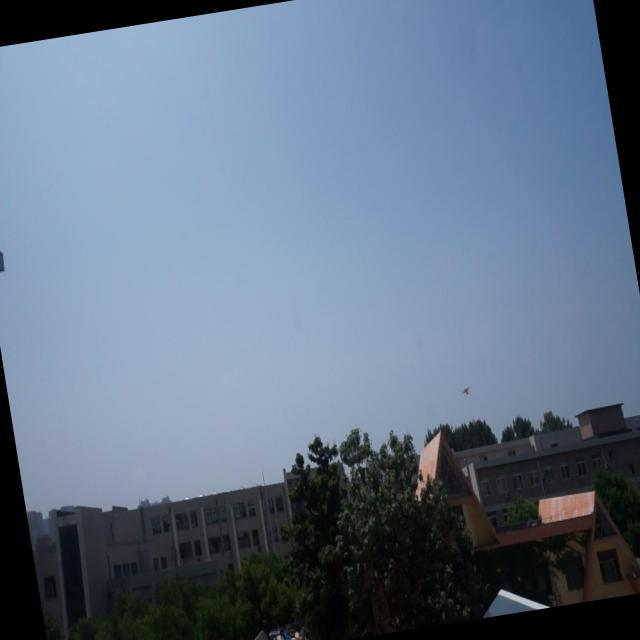drone: (460, 382, 472, 398)
